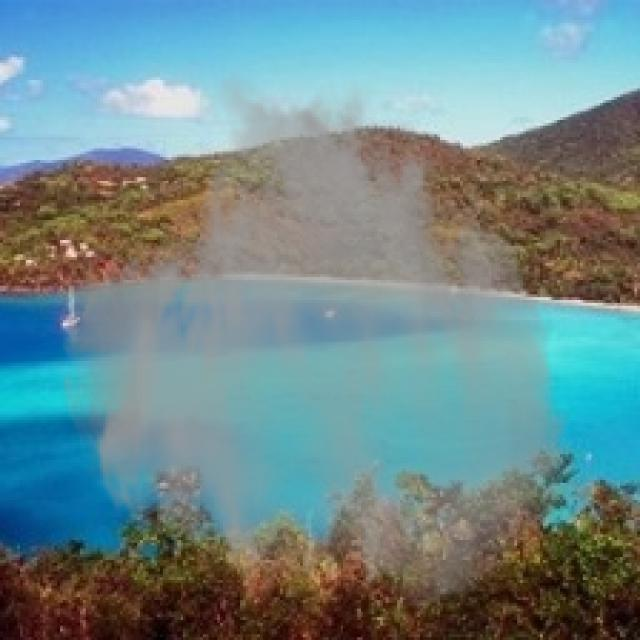Smoke: (57, 69, 577, 612)
